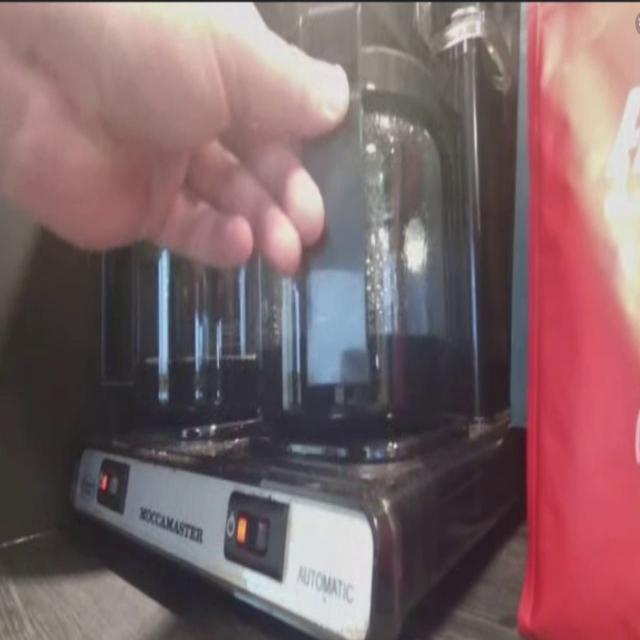coffee: (266, 28, 479, 460), (92, 138, 291, 452)
